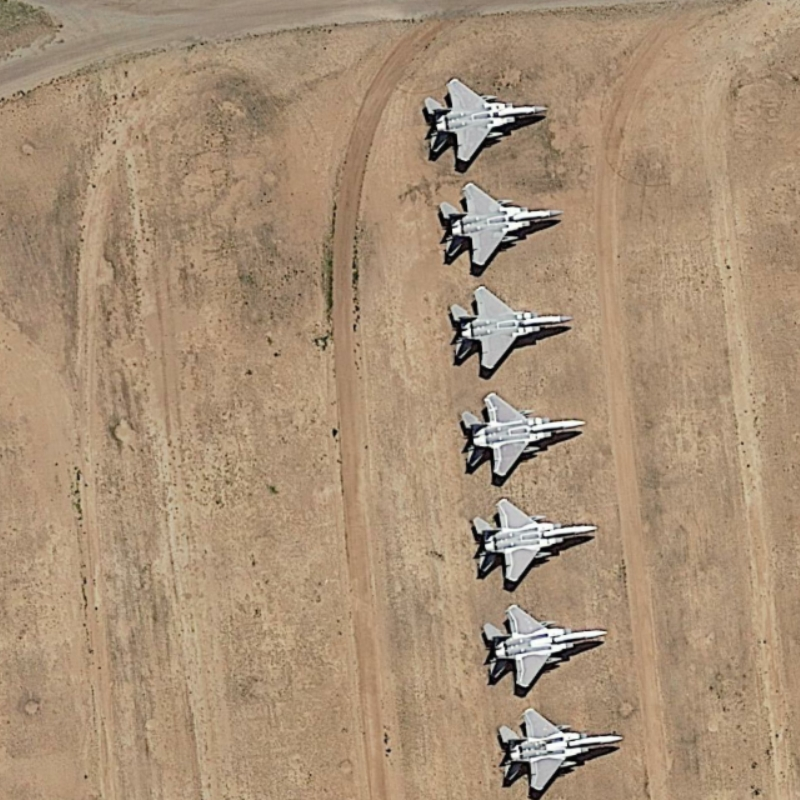A13: (417, 67, 559, 171), (467, 489, 604, 592), (429, 178, 570, 274), (441, 280, 578, 377), (494, 696, 629, 794), (451, 389, 593, 480), (477, 602, 614, 694)
